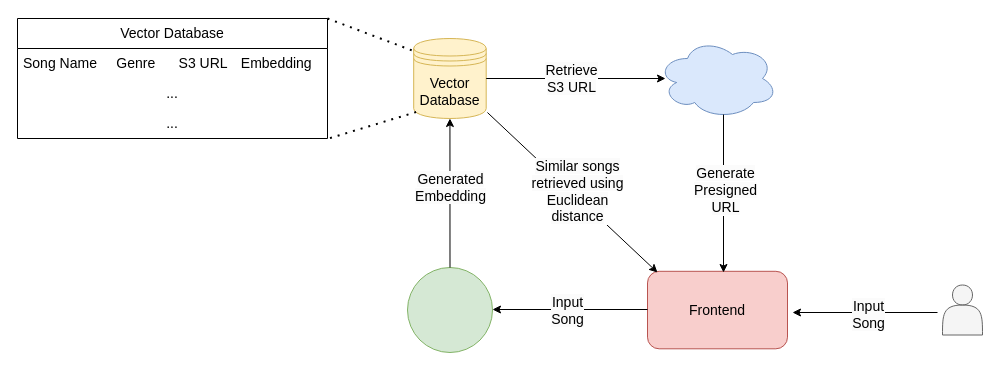
The diagram is 1000 pixels wide and 370 high, and some of its shapes have lost their labels. Each missing label, with the box of its shape:
Model: (406, 266, 492, 352)
S3 Bucket: (656, 38, 778, 118)
